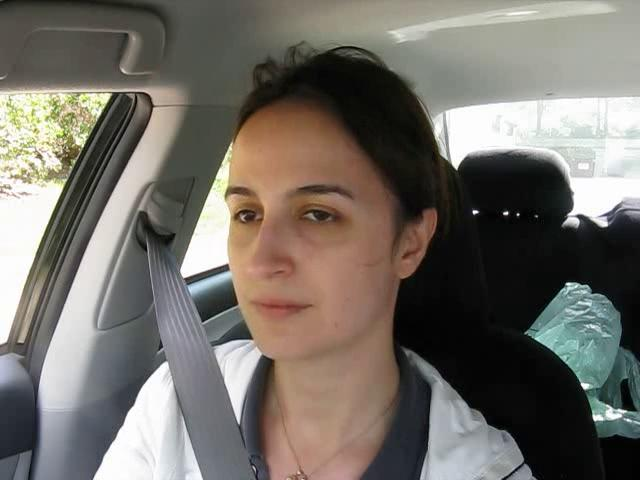no_yawn: (240, 288, 322, 328)
open_eyeL: (227, 199, 267, 233)
open_eyeR: (291, 196, 356, 233)
